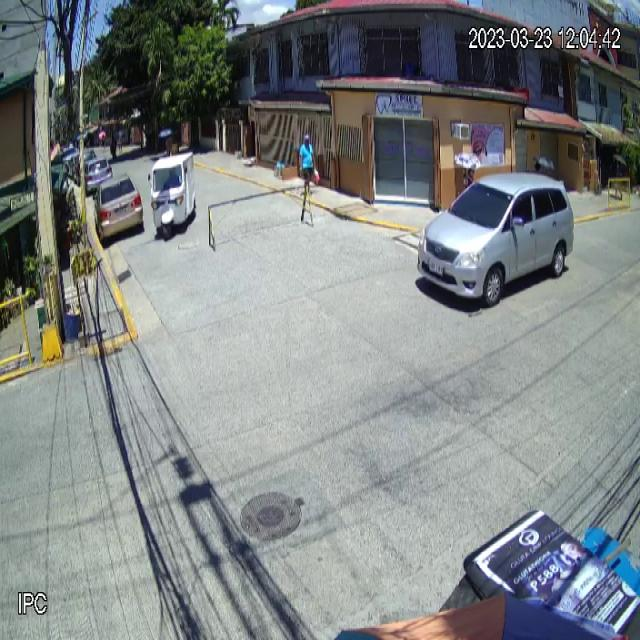Car: (417, 170, 575, 308)
